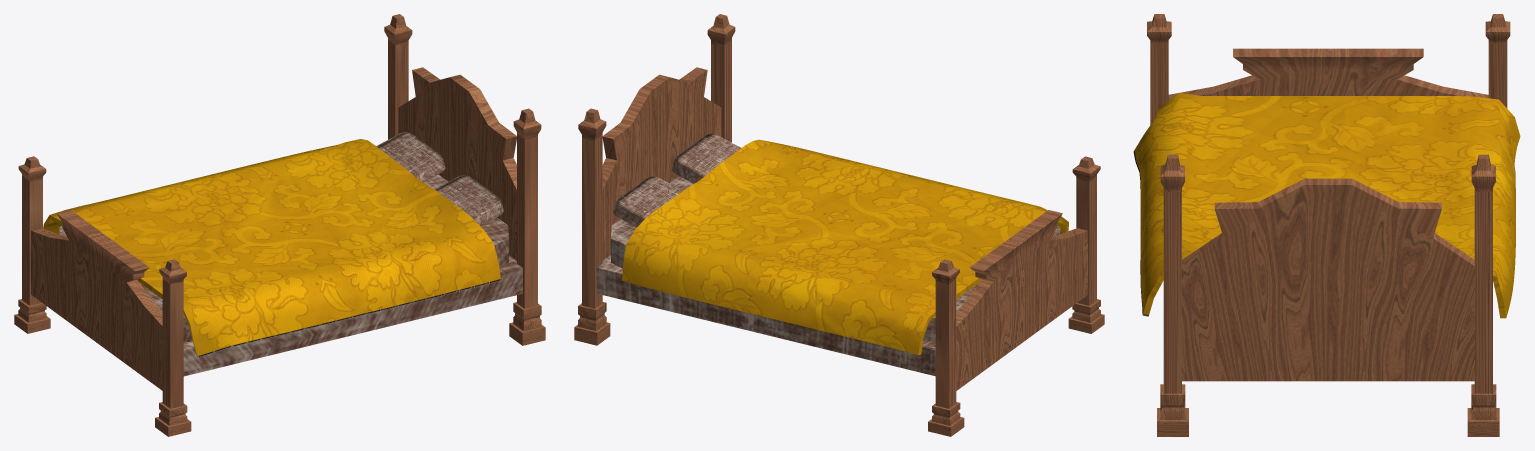
File: YuchenZ_VBed_Master (3).fbx
3 renders of one model, left to right at view 1: azimuth 30°, elevation 25°; view 2: azimuth 150°, elevation 25°; view 3: azimuth 270°, elevation 25°, orthographic. The views are drawn at different scales.
Parts seen in each view (by area): view 1: pCube4; view 2: pCube4; view 3: pCube4.
Part boxes in pixels (<box>): pCube4: <box>14,14,545,436</box>; pCube4: <box>574,14,1104,436</box>; pCube4: <box>1133,14,1520,436</box>.
Size of the model in its own units: 13.39 by 7.59 by 9.74.
